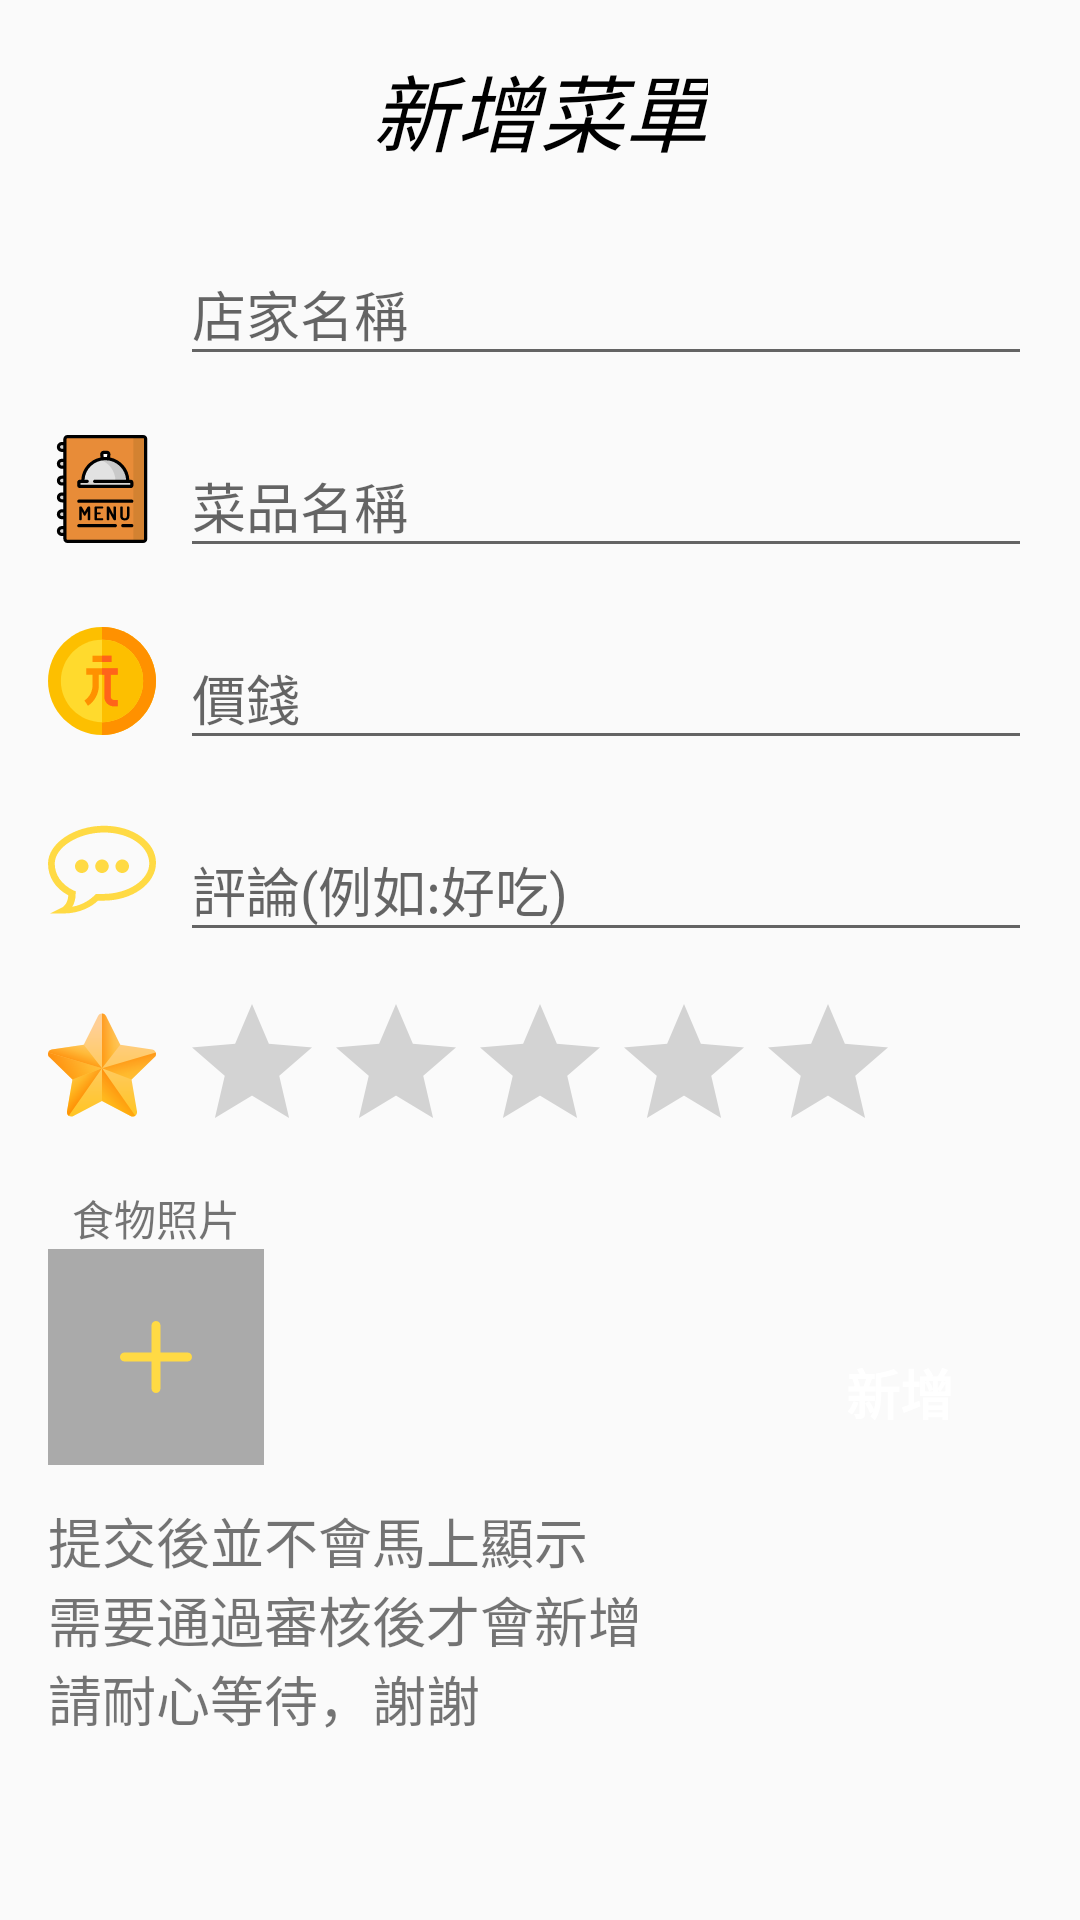

Named icons in this screenshot (1080 × 1920) and their centers, (x=x, y=y):
add: (x=156, y=1357)
comment: (x=102, y=869)
dollar: (x=102, y=681)
star: (x=102, y=1065)
